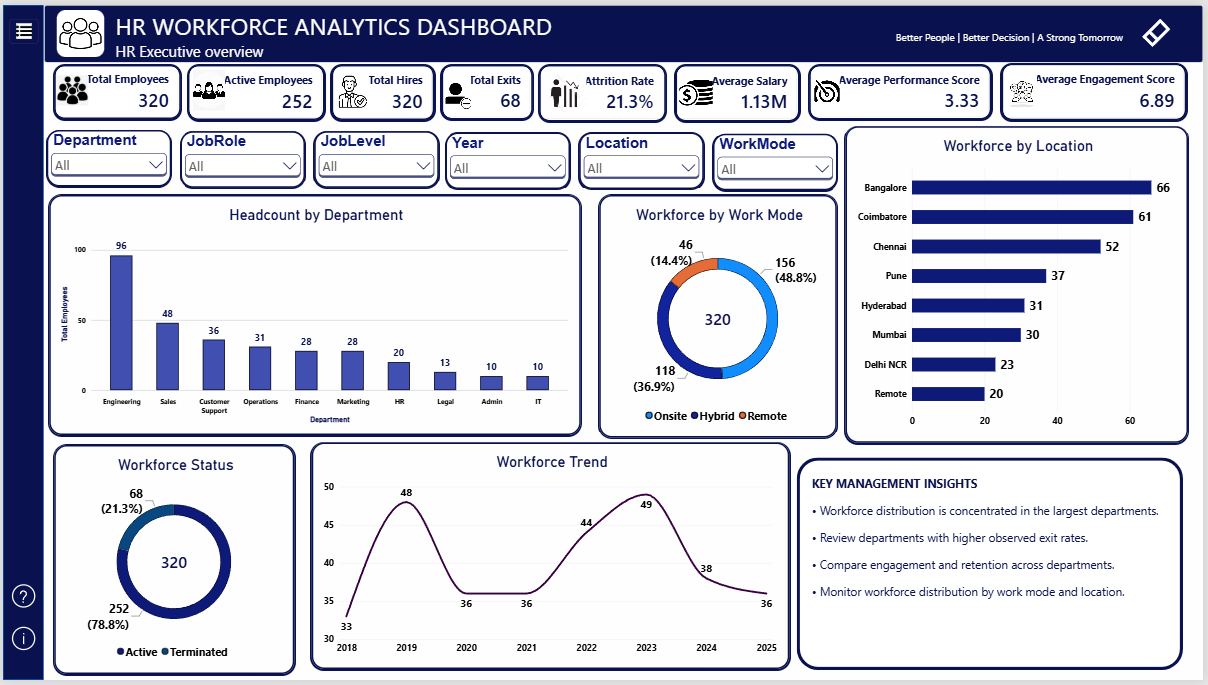

The page's visual inventory and layout, read from the dashboard file:
{"tool":"powerbi","page":{"name":"HR Executive Overview","canvas":[1920,1080],"ordinal":0},"visuals":[{"type":"shape","title":"side corner layout","box":[0,0,65,1080],"z":0,"group":"g16"},{"type":"actionButton","title":"top nav bar","box":[66,0,1854,92],"z":0,"group":"g13"},{"type":"group","id":"g1","title":"Group 1","box":[1597.5,94,295.4,90],"z":0,"group":"g17"},{"type":"cardVisual","fields":{"Data":["Measures (2).Average Engagement Score"]},"box":[1597.5,94,295.4,90],"z":0,"group":"g1"},{"type":"cardVisual","fields":{"Data":["Measures (2).Total Employees"]},"box":[82,95.1,202.8,86.4],"z":0,"group":"g14"},{"type":"group","id":"g2","title":"Group 1","box":[295.7,95.1,218.1,88.2],"z":0,"group":"g20"},{"type":"cardVisual","fields":{"Data":["Measures (2).Active Employees"]},"box":[295.7,95.1,218.1,88.2],"z":0,"group":"g2"},{"type":"cardVisual","fields":{"Data":["Measures (2).Total Hires"]},"box":[525.9,95.1,164,88.2],"z":0,"group":"g3"},{"type":"group","id":"g3","title":"Group 1","box":[525.9,95.1,164,88.2],"z":0,"group":"g18"},{"type":"group","id":"g4","title":"Group 1","box":[702.1,95.1,146,87.3],"z":0,"group":"g21"},{"type":"cardVisual","fields":{"Data":["Measures (2).Total Exits"]},"box":[702.1,95.1,146,87.3],"z":0,"group":"g4"},{"type":"group","id":"g5","title":"Group 1","box":[858.5,95.1,202.2,90],"z":0,"group":"g19"},{"type":"cardVisual","fields":{"Data":["Measures (2).Attrition Rate"]},"box":[858.5,95.1,202.2,90],"z":0,"group":"g5"},{"type":"group","id":"g6","title":"avg salary","box":[1075.4,96.2,198.2,90],"z":0,"group":"g22"},{"type":"cardVisual","fields":{"Data":["Measures (2).Average Salary"]},"box":[1075.4,96.2,198.2,90],"z":0,"group":"g7"},{"type":"group","id":"g7","title":"Group 1","box":[1075.4,96.2,198.2,90],"z":0,"group":"g6"},{"type":"group","id":"g8","title":"Group 1","box":[1289.1,96.2,291.4,87],"z":0,"group":"g15"},{"type":"cardVisual","fields":{"Data":["Measures (2).Average Performance Score"]},"box":[1289.1,96.2,291.4,87],"z":0,"group":"g8"},{"type":"group","id":"g9","title":"charts","box":[74,194,1822,876],"z":0},{"type":"slicer","fields":{"Values":["DimEmployee.JobLevel"]},"box":[497.2,201.9,199.6,90],"z":0,"group":"g12"},{"type":"shape","box":[1270,724,618,340],"z":0,"group":"g10"},{"type":"group","id":"g10","title":"key insgits","box":[1270,724,618,340],"z":0,"group":"g9"},{"type":"group","id":"g11","title":"Group 2","box":[82,94,1810,92],"z":500},{"type":"image","title":"people icon","box":[85,7.5,76,75],"z":1000,"group":"g13"},{"type":"image","box":[708.4,101.5,40.6,72.7],"z":1000,"group":"g21"},{"type":"image","box":[302.9,102.4,51.4,64.5],"z":1000,"group":"g20"},{"type":"image","box":[534,104.2,51.4,65.5],"z":1000,"group":"g18"},{"type":"image","box":[1604.4,107,50.7,58.9],"z":1000,"group":"g17"},{"type":"image","box":[1297,108.2,40.8,60],"z":1000,"group":"g15"},{"type":"image","box":[871.7,109.5,62.8,61.1],"z":1000,"group":"g19"},{"type":"image","box":[1081.5,110.2,53.7,61.1],"z":1000,"group":"g6"},{"type":"image","box":[82,111.5,58.6,49.1],"z":1000,"group":"g14"},{"type":"clusteredBarChart","title":"Workforce by Location","fields":{"Category":["DimEmployee.Location"],"Y":["Measures (2).Total Employees"]},"box":[1348,194,548,506],"z":1000,"group":"g9"},{"type":"group","id":"g12","title":"slicers","box":[70,200,1266,94],"z":1000},{"type":"slicer","fields":{"Values":["DimEmployee.Location"]},"box":[921.2,204.1,199.6,90],"z":1000,"group":"g12"},{"type":"textbox","box":[1294,752.3,567.7,283.3],"z":1000,"group":"g10"},{"type":"actionButton","title":"info","box":[7.5,985,50,50],"z":1000,"group":"g16"},{"type":"actionButton","title":"clear slicer","box":[1794,12,102,66],"z":1500,"group":"g13"},{"type":"group","id":"g13","title":"top nav bar","box":[66,0,1854,92.5],"z":2000},{"type":"textbox","box":[180,7.5,1220,85],"z":2000,"group":"g13"},{"type":"group","id":"g14","title":"tot emp","box":[82,95.1,202.7,86.7],"z":2000,"group":"g11"},{"type":"slicer","fields":{"Values":["DimEmployee.WorkMode"]},"box":[1136.7,205.2,199.6,90],"z":2000,"group":"g12"},{"type":"lineChart","title":"Workforce Trend","fields":{"Category":["DimEmployee.HireDate.Variation.Date Hierarchy.Year"],"Y":["Measures (2).Total Employees"]},"box":[494,700,764,362],"z":2000,"group":"g9"},{"type":"actionButton","title":"help","box":[7.5,917.5,50,50],"z":2000,"group":"g16"},{"type":"textbox","box":[1306,22,486,62],"z":2500,"group":"g13"},{"type":"actionButton","title":"menu Button","box":[10,22.5,47.5,40],"z":3000,"group":"g16"},{"type":"group","id":"g15","title":"performance score","box":[1289.1,96.2,291.9,87.8],"z":3000,"group":"g11"},{"type":"slicer","fields":{"Values":["DimEmployee.Department"]},"box":[70,200,199.6,90],"z":3000,"group":"g12"},{"type":"donutChart","title":"Workforce by Work Mode","fields":{"Category":["DimEmployee.WorkMode"],"Y":["Measures (2).Total Employees"]},"box":[954,304,380,388],"z":3000,"group":"g9"},{"type":"group","id":"g16","title":"menu bar","box":[0,0,65,1080],"z":4000},{"type":"group","id":"g17","title":"engament score","box":[1597.5,94,295.2,90],"z":4000,"group":"g11"},{"type":"slicer","fields":{"Values":["DimEmployee.JobRole"]},"box":[283.2,201.4,199.6,90],"z":4000,"group":"g12"},{"type":"donutChart","title":"Workforce Status","fields":{"Category":["DimEmployee.EmploymentStatus"],"Y":["Measures (2).Total Employees"]},"box":[82,704,384,366],"z":4000,"group":"g9"},{"type":"group","id":"g18","title":"tot hires","box":[525.9,95.1,164.1,87.8],"z":5000,"group":"g11"},{"type":"slicer","fields":{"Values":["DimDate.Year"]},"box":[707.4,204.1,199.6,90],"z":5000,"group":"g12"},{"type":"clusteredColumnChart","title":"Headcount by Department","fields":{"Category":["DimEmployee.Department"],"Y":["Measures (2).Total Employees"]},"box":[74,304,850,384],"z":5000,"group":"g9"},{"type":"group","id":"g19","title":"attrition rate","box":[858.5,95.1,201.6,90],"z":6000,"group":"g11"},{"type":"group","id":"g20","title":"active emp","box":[295.7,95.1,218.1,88.9],"z":7000,"group":"g11"},{"type":"group","id":"g21","title":"tot exits","box":[702.1,95.1,146.5,87.8],"z":8000,"group":"g11"},{"type":"group","id":"g22","title":"avg sal","box":[1075.4,96.2,198.2,90],"z":9000,"group":"g11"}]}

Visuals, with their boxes in screenshot pixels (x1, y1, x2, y2), scaled from the page's 1920x1080 canvas onto the 1208x685 screenshot:
"side corner layout" shape: box(0, 0, 41, 684)
"top nav bar" actionButton: box(42, 0, 1207, 58)
"Group 1" group: box(1005, 60, 1191, 117)
cardVisual - Measures (2).Average Engagement Score: box(1005, 60, 1191, 117)
cardVisual - Measures (2).Total Employees: box(52, 60, 179, 115)
"Group 1" group: box(186, 60, 323, 116)
cardVisual - Measures (2).Active Employees: box(186, 60, 323, 116)
cardVisual - Measures (2).Total Hires: box(331, 60, 434, 116)
"Group 1" group: box(331, 60, 434, 116)
"Group 1" group: box(442, 60, 534, 116)
cardVisual - Measures (2).Total Exits: box(442, 60, 534, 116)
"Group 1" group: box(540, 60, 667, 117)
cardVisual - Measures (2).Attrition Rate: box(540, 60, 667, 117)
"avg salary" group: box(677, 61, 801, 118)
cardVisual - Measures (2).Average Salary: box(677, 61, 801, 118)
"Group 1" group: box(677, 61, 801, 118)
"Group 1" group: box(811, 61, 994, 116)
cardVisual - Measures (2).Average Performance Score: box(811, 61, 994, 116)
"charts" group: box(47, 123, 1193, 679)
slicer - DimEmployee.JobLevel: box(313, 128, 438, 185)
shape: box(799, 459, 1188, 675)
"key insgits" group: box(799, 459, 1188, 675)
"Group 2" group: box(52, 60, 1190, 118)
"people icon" image: box(53, 5, 101, 52)
image: box(446, 64, 471, 110)
image: box(191, 65, 223, 106)
image: box(336, 66, 368, 108)
image: box(1009, 68, 1041, 105)
image: box(816, 69, 842, 107)
image: box(548, 69, 588, 108)
image: box(680, 70, 714, 109)
image: box(52, 71, 88, 102)
"Workforce by Location" clusteredBarChart: box(848, 123, 1193, 444)
"slicers" group: box(44, 127, 841, 186)
slicer - DimEmployee.Location: box(580, 129, 705, 187)
textbox: box(814, 477, 1171, 657)
"info" actionButton: box(5, 625, 36, 656)
"clear slicer" actionButton: box(1129, 8, 1193, 49)
"top nav bar" group: box(42, 0, 1207, 59)
textbox: box(113, 5, 881, 59)
"tot emp" group: box(52, 60, 179, 115)
slicer - DimEmployee.WorkMode: box(715, 130, 841, 187)
"Workforce Trend" lineChart: box(311, 444, 791, 674)
"help" actionButton: box(5, 582, 36, 614)
textbox: box(822, 14, 1127, 53)
"menu Button" actionButton: box(6, 14, 36, 40)
"performance score" group: box(811, 61, 995, 117)
slicer - DimEmployee.Department: box(44, 127, 170, 184)
"Workforce by Work Mode" donutChart: box(600, 193, 839, 439)
"menu bar" group: box(0, 0, 41, 684)
"engament score" group: box(1005, 60, 1191, 117)
slicer - DimEmployee.JobRole: box(178, 128, 304, 185)
"Workforce Status" donutChart: box(52, 447, 293, 679)
"tot hires" group: box(331, 60, 434, 116)
slicer - DimDate.Year: box(445, 129, 571, 187)
"Headcount by Department" clusteredColumnChart: box(47, 193, 581, 436)
"attrition rate" group: box(540, 60, 667, 117)
"active emp" group: box(186, 60, 323, 117)
"tot exits" group: box(442, 60, 534, 116)
"avg sal" group: box(677, 61, 801, 118)
